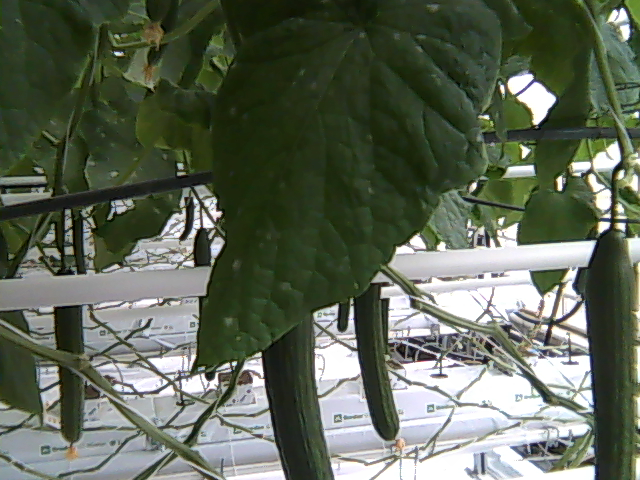concombre: (580, 224, 637, 480), (260, 314, 335, 480)
